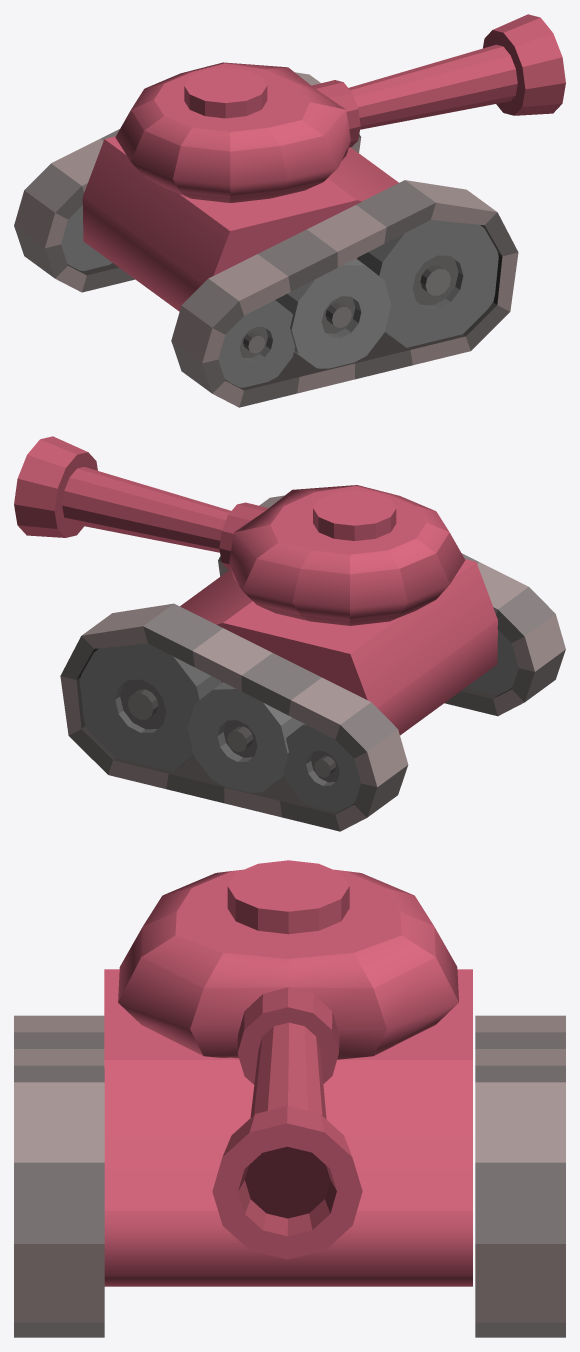
Rendered from Tank.fbx.
The picture shows the model from 3 angles, top to bottom: view 1: azimuth 30°, elevation 25°; view 2: azimuth 150°, elevation 25°; view 3: azimuth 270°, elevation 25°; orthographic projection. The views are drawn at different scales.
Visible parts, largest first — view 1: pCylinder11; view 2: pCylinder11; view 3: pCylinder11.
Part boxes in pixels (x1,y1,x2,y2): pCylinder11: (14,14,565,407); pCylinder11: (14,436,565,831); pCylinder11: (14,860,565,1337).
Size of the model in its own units: 144 by 74.7 by 109.
